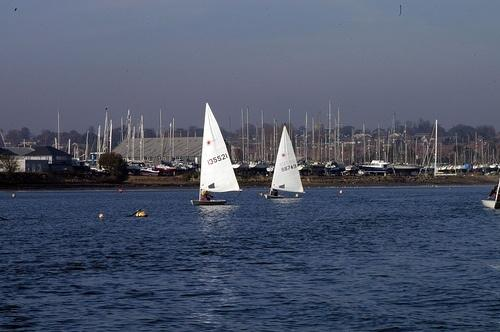Ship: (190, 102, 241, 207), (267, 125, 307, 206)
